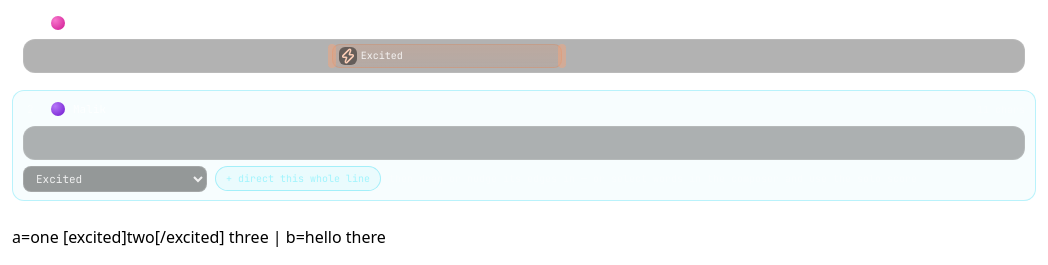
Test: ScriptScore — the scene as stacked lanes › directs a whole line, then keeps the rest of the script untouched
Click the button "+ direct this whole line".
click(298, 178)  # box 215,166 -> 381,191
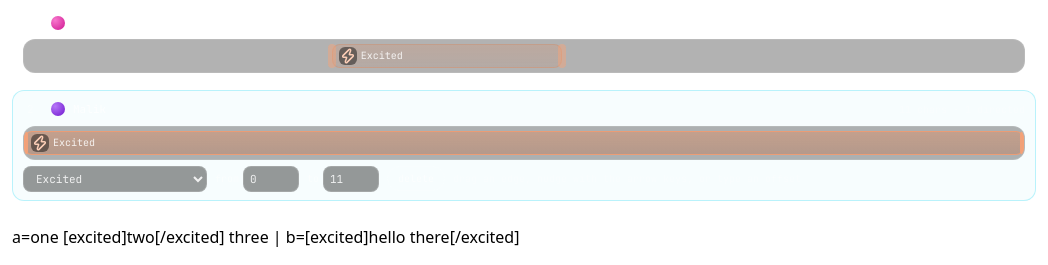
Check: the text with test id "wire" reads "a=one [excited]two[/excited] three | b=[excited]hello there[/excited]", box 12,226 -> 519,248
